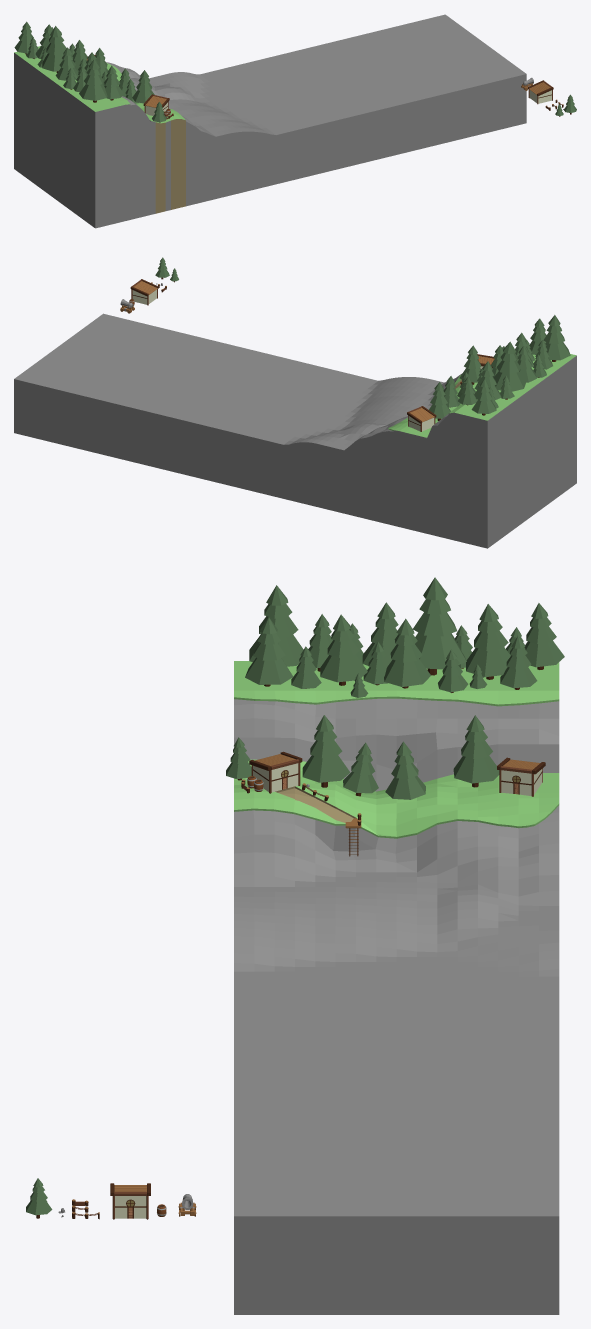
3 views of the same model, one above another, from view 1: azimuth 30°, elevation 25°; view 2: azimuth 150°, elevation 25°; view 3: azimuth 270°, elevation 25° (orthographic). The views are drawn at different scales.
Parts seen in each view (by area): view 1: Cube, sapin 1.013, sapin 1.015, Cube.014, sapin 1.004, sapin 1.002, sapin 1.008, Cube.013, sapin 1.019; view 2: Cube, sapin 1.015, sapin 1.013, Cube.015, Cube.014, sapin 1.019, sapin 1.006, sapin 1.002, sapin 1.008, sapin 1.009; view 3: Cube, sapin 1.015, sapin 1.009, sapin 1.002, sapin 1.006, sapin 1.003, sapin 1.021, sapin 1.004, sapin 1.013, Cube.013, sapin 1.019, Cube.015 (+5 smaller).
Boxes of the visible parts, x1=… form: Cube: x1=14, y1=14, x2=526, y2=228; sapin 1.013: x1=79, y1=59, x2=107, y2=102; sapin 1.015: x1=42, y1=26, x2=66, y2=72; Cube.014: x1=528, y1=80, x2=553, y2=104; sapin 1.004: x1=104, y1=65, x2=123, y2=100; sapin 1.002: x1=132, y1=70, x2=154, y2=103; sapin 1.008: x1=55, y1=47, x2=78, y2=80; Cube.013: x1=143, y1=94, x2=169, y2=115; sapin 1.019: x1=14, y1=21, x2=33, y2=54; Cube: x1=14, y1=313, x2=576, y2=548; sapin 1.015: x1=493, y1=341, x2=526, y2=391; sapin 1.013: x1=543, y1=315, x2=570, y2=361; Cube.015: x1=407, y1=406, x2=436, y2=431; Cube.014: x1=130, y1=279, x2=158, y2=305; sapin 1.019: x1=471, y1=379, x2=496, y2=415; sapin 1.006: x1=429, y1=382, x2=450, y2=420; sapin 1.002: x1=459, y1=345, x2=481, y2=384; sapin 1.008: x1=517, y1=345, x2=536, y2=382; sapin 1.009: x1=474, y1=361, x2=501, y2=399; Cube: x1=234, y1=661, x2=559, y2=1314; sapin 1.015: x1=413, y1=577, x2=466, y2=675; sapin 1.009: x1=466, y1=604, x2=510, y2=679; sapin 1.002: x1=302, y1=715, x2=350, y2=787; sapin 1.006: x1=453, y1=715, x2=499, y2=787; sapin 1.003: x1=320, y1=614, x2=367, y2=685; sapin 1.021: x1=384, y1=618, x2=430, y2=688; sapin 1.004: x1=245, y1=617, x2=293, y2=686; sapin 1.013: x1=249, y1=585, x2=303, y2=666; Cube.013: x1=249, y1=751, x2=302, y2=793; sapin 1.019: x1=524, y1=603, x2=564, y2=669; Cube.015: x1=497, y1=757, x2=545, y2=796.
Size of the model in its own units: 15482 by 5556 by 8300.
